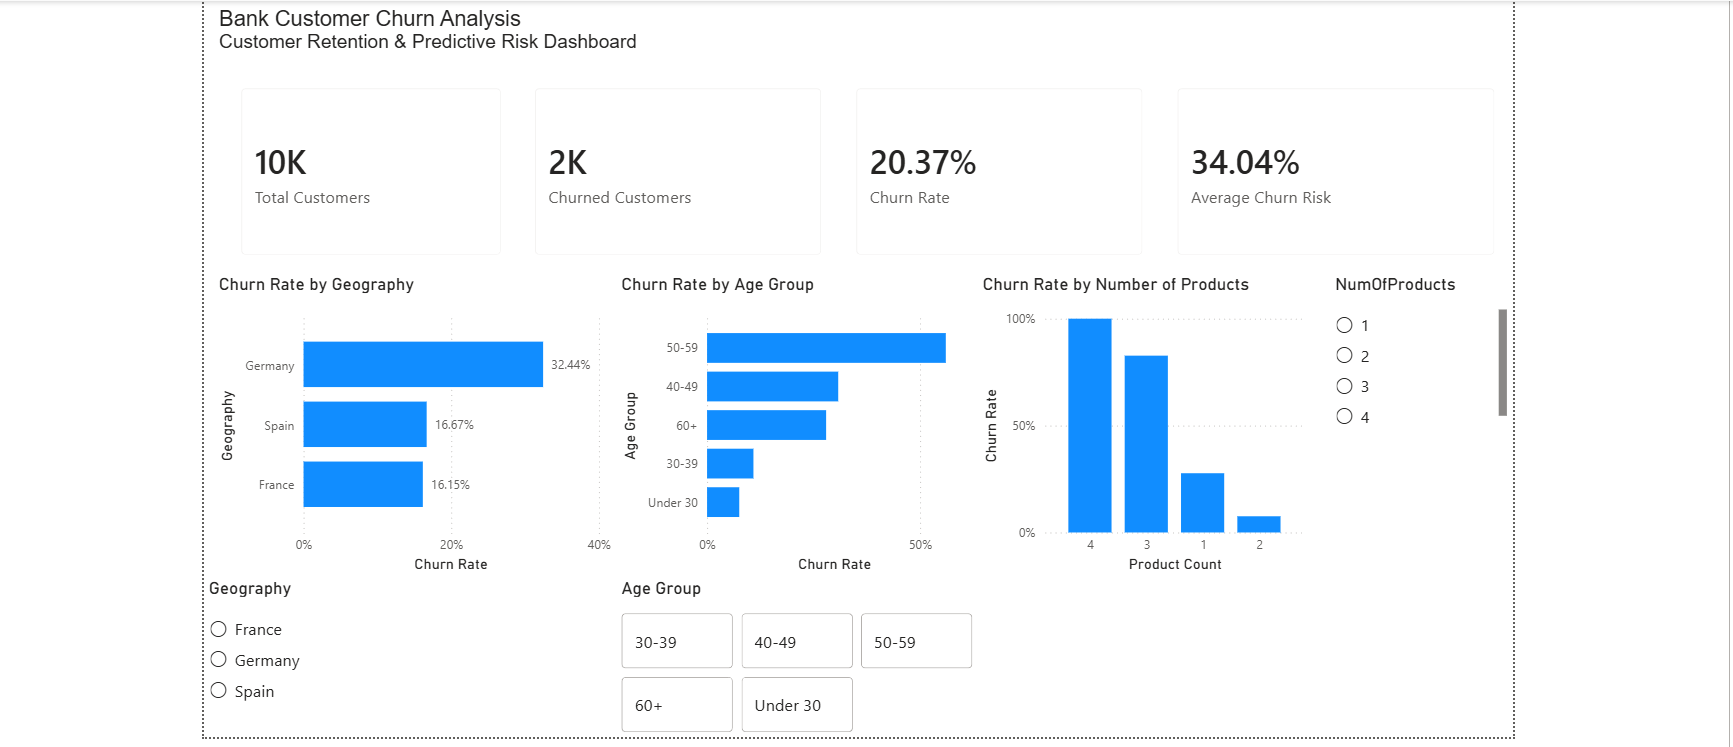

The dashboard page shown, as its layout file describes it:
{"tool":"powerbi","page":{"name":"Churn Overview","canvas":[1280,720],"ordinal":0},"visuals":[{"type":"textbox","box":[9.6,0,499.5,59],"z":0},{"type":"cardVisual","fields":{"Data":["bank_churn_powerbi.Churn Rate"]},"box":[621.6,68.6,314.2,197.6],"z":1000},{"type":"cardVisual","fields":{"Data":["bank_churn_powerbi.Churned Customers"]},"box":[307.4,68.6,314.2,197.6],"z":2000},{"type":"cardVisual","fields":{"Data":["bank_churn_powerbi.Total Customers"]},"box":[19.2,68.6,288.2,197.6],"z":3000},{"type":"cardVisual","fields":{"Data":["bank_churn_powerbi.Average Churn Risk"]},"box":[935.9,68.6,344.4,197.6],"z":4000},{"type":"clusteredBarChart","title":"Churn Rate by Geography","fields":{"Category":["bank_churn_powerbi.Geography"],"Y":["bank_churn_powerbi.Churn Rate"]},"box":[9.8,266.6,393.8,297.1],"z":5000},{"type":"clusteredBarChart","fields":{"Category":["bank_churn_powerbi.Age Group"],"Y":["bank_churn_powerbi.Churn Rate"]},"box":[403.5,266.6,355.8,297.1],"z":6000},{"type":"clusteredColumnChart","title":"Churn Rate by Number of Products","fields":{"Category":["bank_churn_powerbi.Product Count"],"Y":["bank_churn_powerbi.Churn Rate"]},"box":[756.9,266.6,325.3,297.1],"z":7000},{"type":"listSlicer","fields":{"Values":["bank_churn_powerbi.Geography"]},"box":[0,563.7,330.2,156.5],"z":8000},{"type":"listSlicer","fields":{"Values":["bank_churn_powerbi.NumOfProducts"]},"box":[1101.8,266.6,178.5,156.5],"z":9000},{"type":"advancedSlicerVisual","fields":{"Values":["bank_churn_powerbi.Age Group"]},"box":[403.5,563.7,353.4,156.5],"z":10000}]}

Visuals, with their boxes on the page's 1280x720 design canvas (x1, y1, x2, y2). These are canvas units, not pixel positions in the 1733x747 screenshot, which may show the page scaled, cropped or inside an application window:
textbox: locate(10, 0, 509, 59)
cardVisual - bank_churn_powerbi.Churn Rate: locate(622, 69, 936, 266)
cardVisual - bank_churn_powerbi.Churned Customers: locate(307, 69, 622, 266)
cardVisual - bank_churn_powerbi.Total Customers: locate(19, 69, 307, 266)
cardVisual - bank_churn_powerbi.Average Churn Risk: locate(936, 69, 1280, 266)
"Churn Rate by Geography" clusteredBarChart: locate(10, 267, 404, 564)
clusteredBarChart - bank_churn_powerbi.Age Group x bank_churn_powerbi.Churn Rate: locate(404, 267, 759, 564)
"Churn Rate by Number of Products" clusteredColumnChart: locate(757, 267, 1082, 564)
listSlicer - bank_churn_powerbi.Geography: locate(0, 564, 330, 720)
listSlicer - bank_churn_powerbi.NumOfProducts: locate(1102, 267, 1280, 423)
advancedSlicerVisual - bank_churn_powerbi.Age Group: locate(404, 564, 757, 720)
